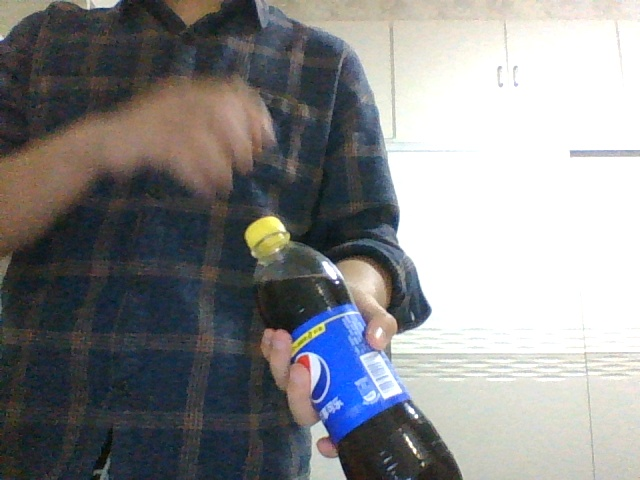Cola: (243, 215, 465, 479)
